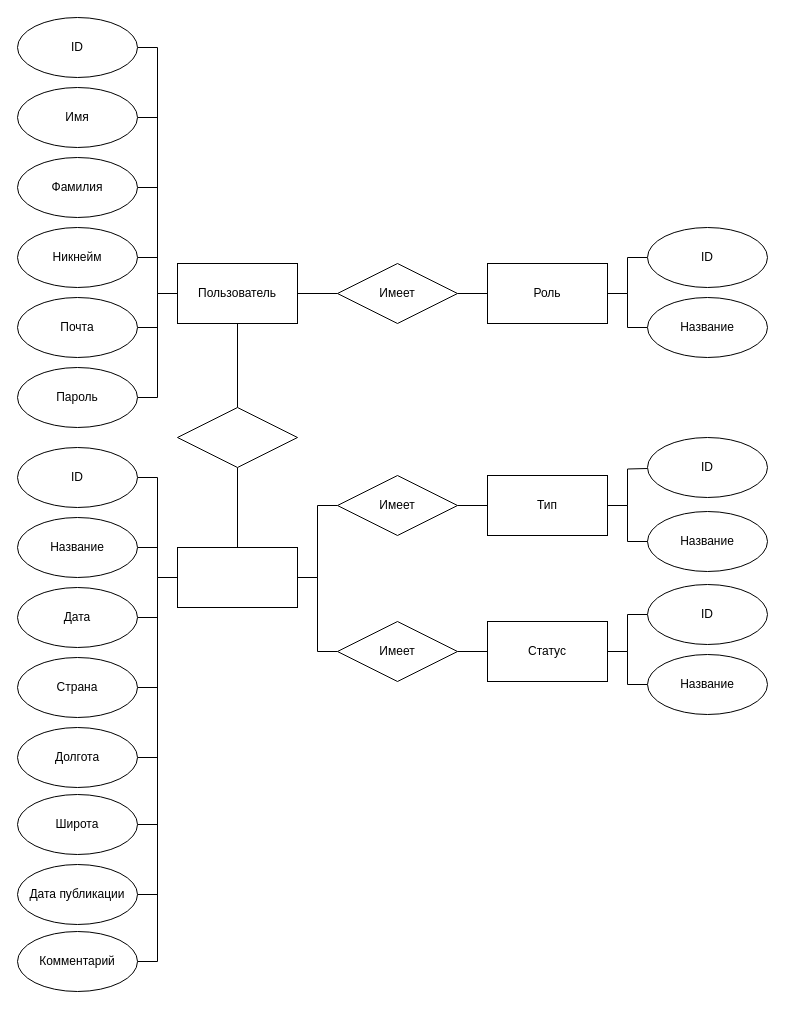
Some shapes in this 785 by 1009 pixel diagram are drawn without their labels. The shapes that lost their labels are listed below. From the top down, each one's centre as x and y in pixels, then its label:
At point 237,437: "Публикует".
At point 237,577: "Инцидент".
